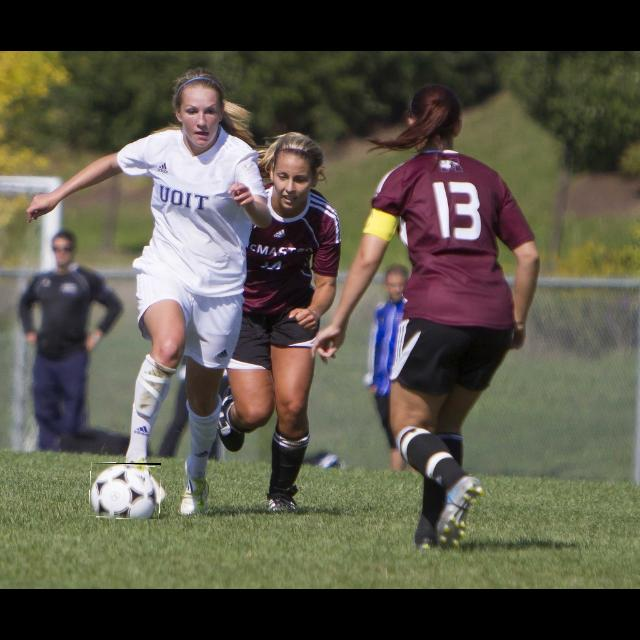Football: (89, 463, 161, 519)
